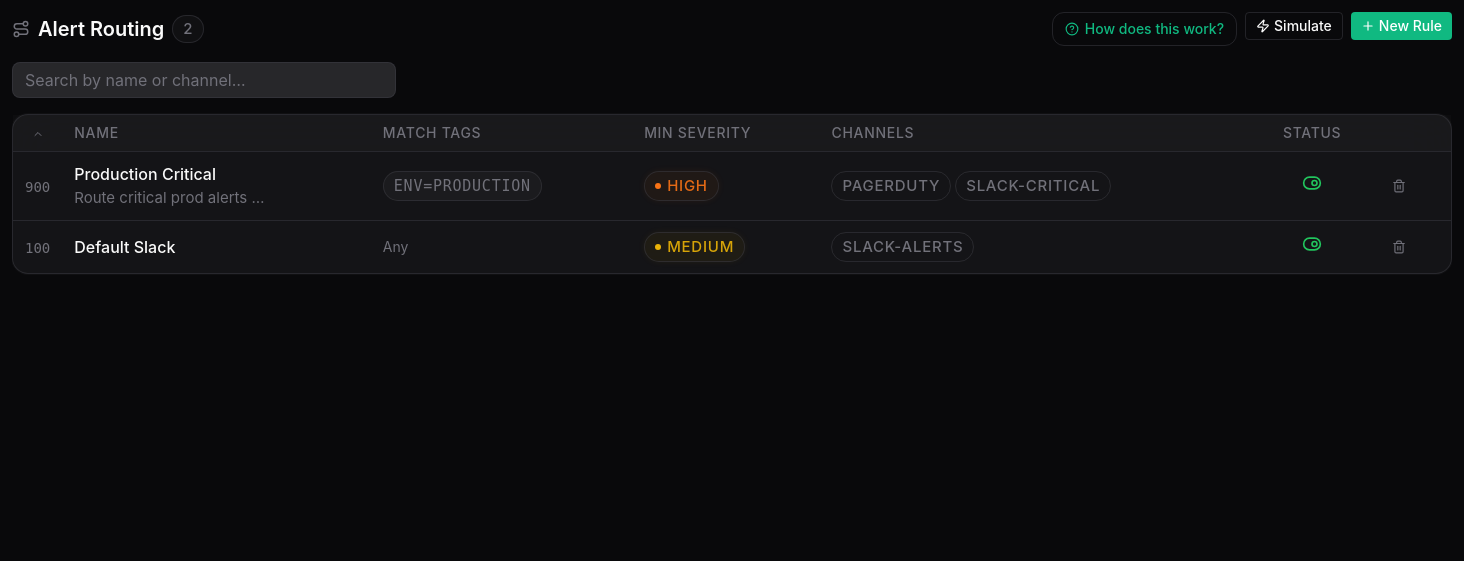
Test: AlertRoutingPage › validates empty rule name on create
Click the button "New Rule" at (1401, 26), box [1351, 12, 1452, 40]
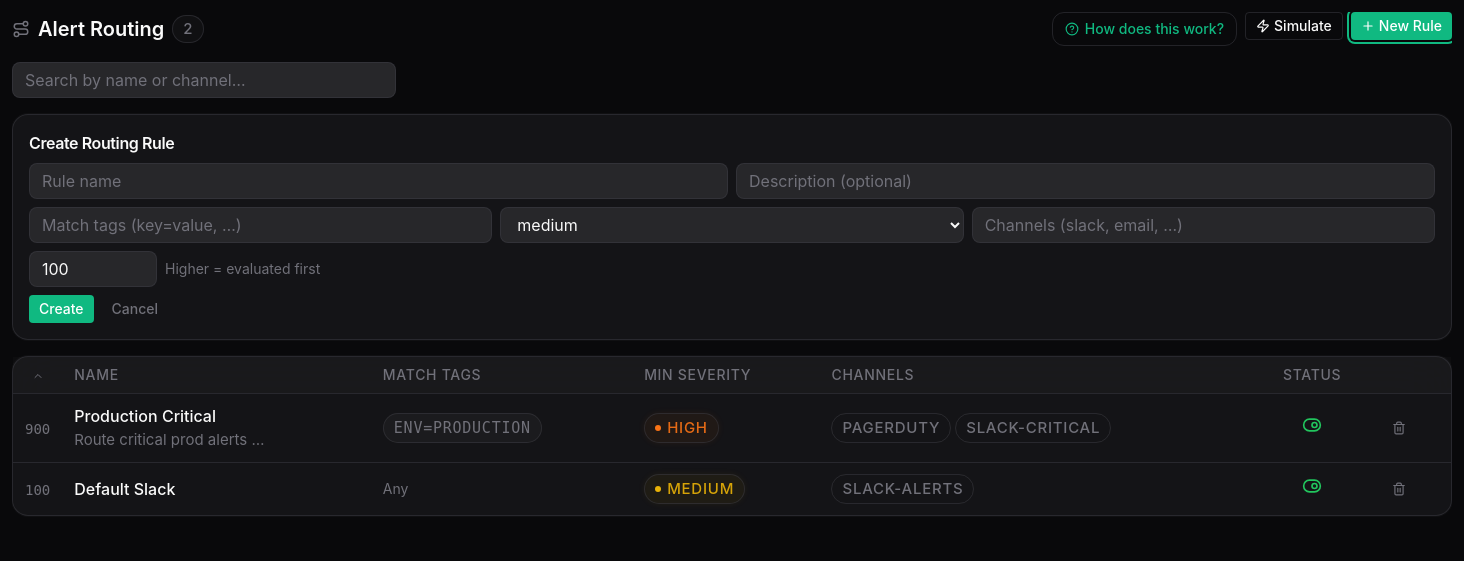
Click the button "Create" at (61, 309), box [29, 295, 94, 323]
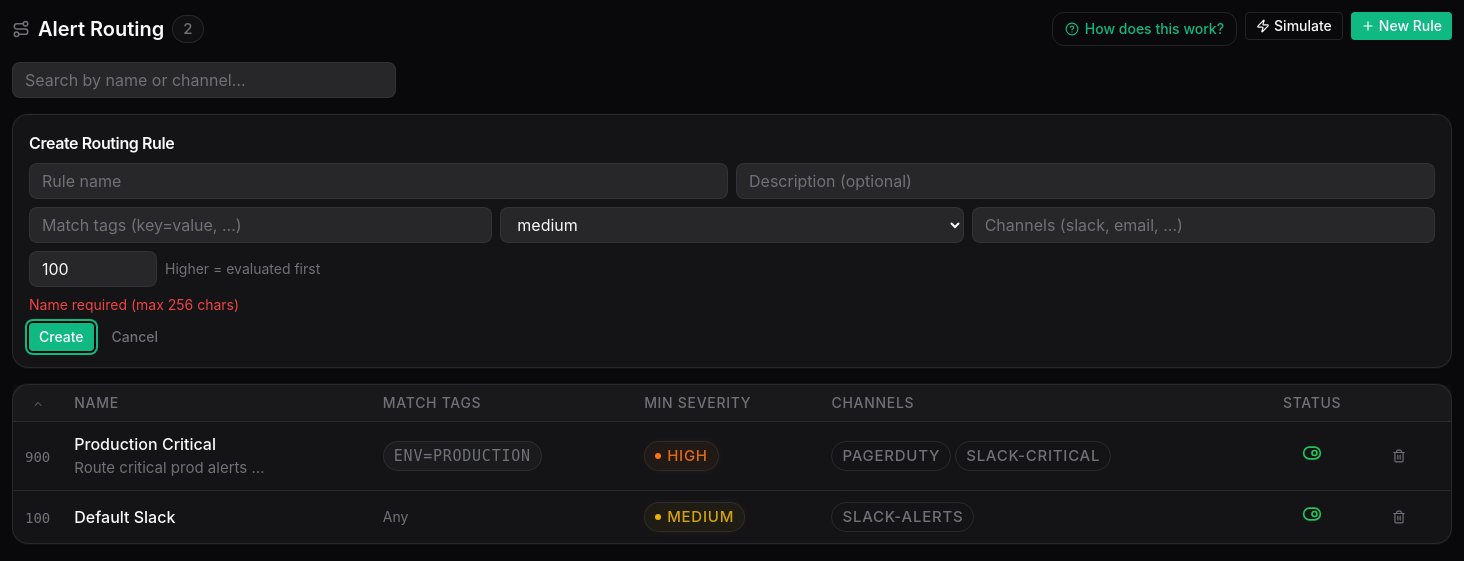
Expected: the message shows "Name required", [29, 296, 239, 313]
